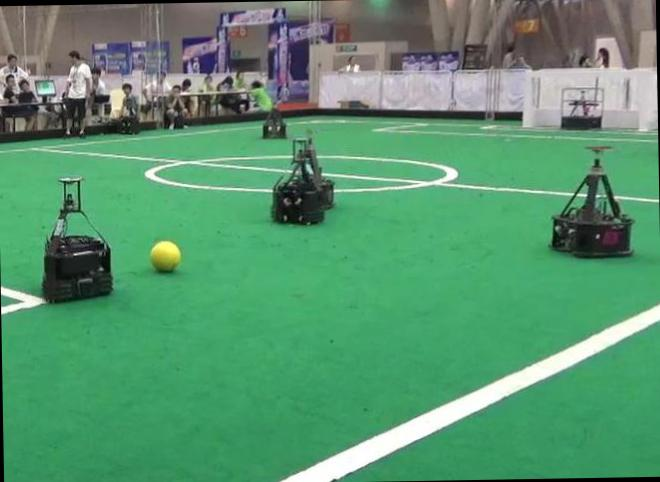ball: (150, 240, 181, 271)
goal: (638, 71, 649, 130), (523, 69, 533, 126)
person: (65, 51, 93, 136)
robot: (43, 176, 112, 301), (552, 157, 633, 256), (271, 137, 333, 223), (561, 86, 603, 127), (262, 109, 287, 137)
